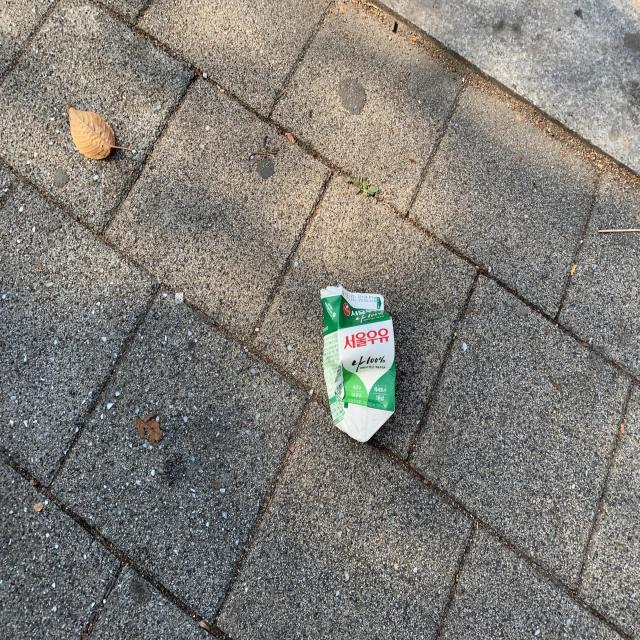paperpack: (321, 286, 396, 442)
